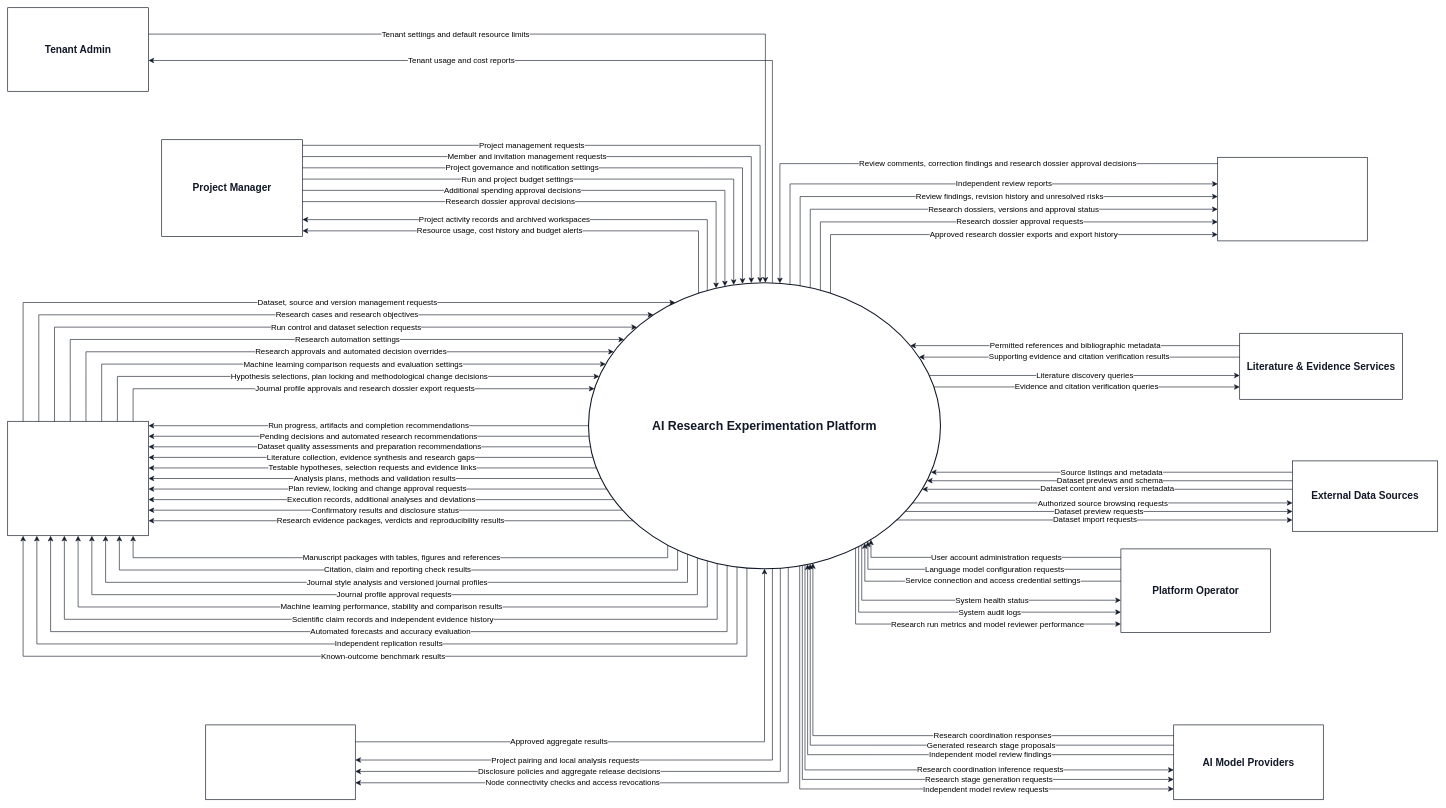
Image size: 1446x808. Some labels were removed from this diagram. Each missing label, with the centre of its shape:
"Local Node" belongs at [280,762].
"Researcher (student)" belongs at [78,478].
"Reviewer" belongs at [1292,199].
